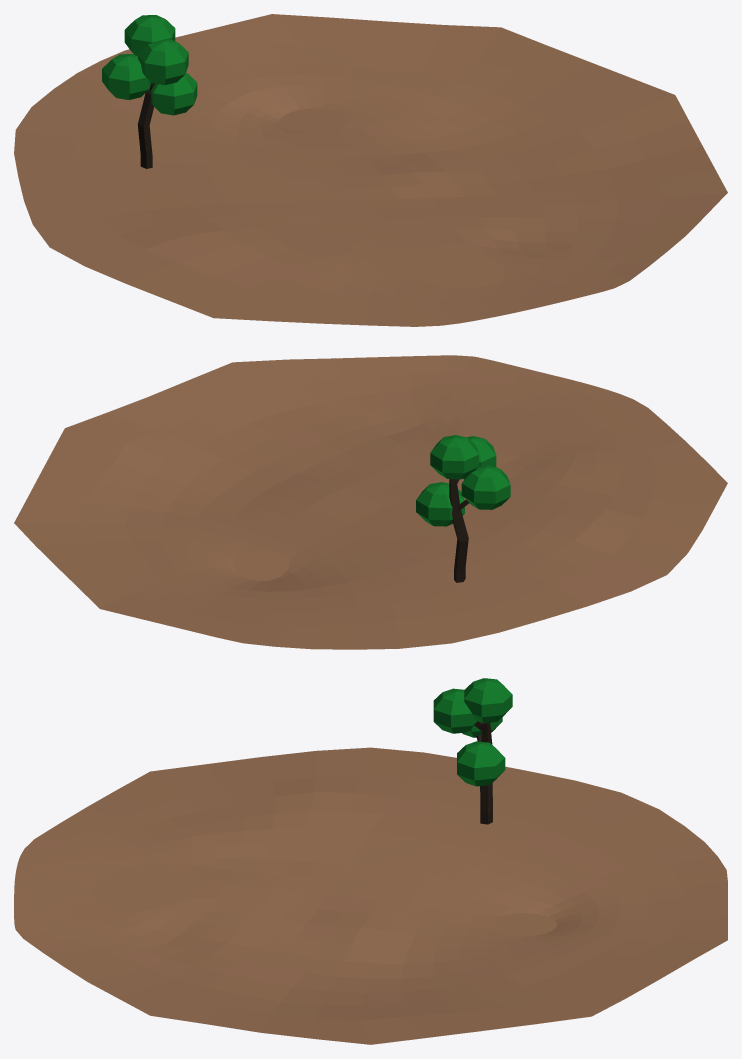
Rendered from Torre Grama.fbx.
The picture shows the model from 3 angles, top to bottom: view 1: azimuth 30°, elevation 25°; view 2: azimuth 150°, elevation 25°; view 3: azimuth 270°, elevation 25°; orthographic projection. The views are drawn at different scales.
Parts seen in each view (by area): view 1: Chao Terra.001, Arvore.001; view 2: Chao Terra.001, Arvore.001; view 3: Chao Terra.001, Arvore.001.
Boxes of the visible parts, box(x1,y1,x2,y2) form: Chao Terra.001: box(14, 14, 727, 326); Arvore.001: box(102, 15, 197, 168); Chao Terra.001: box(14, 355, 727, 649); Arvore.001: box(416, 435, 510, 582); Chao Terra.001: box(14, 747, 727, 1044); Arvore.001: box(433, 678, 512, 824).
Size of the model in its own units: 4230 by 1065 by 4298.
